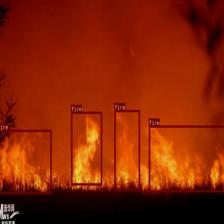fire: (148, 125, 224, 192), (0, 129, 51, 193), (71, 111, 102, 184), (114, 110, 140, 190)
